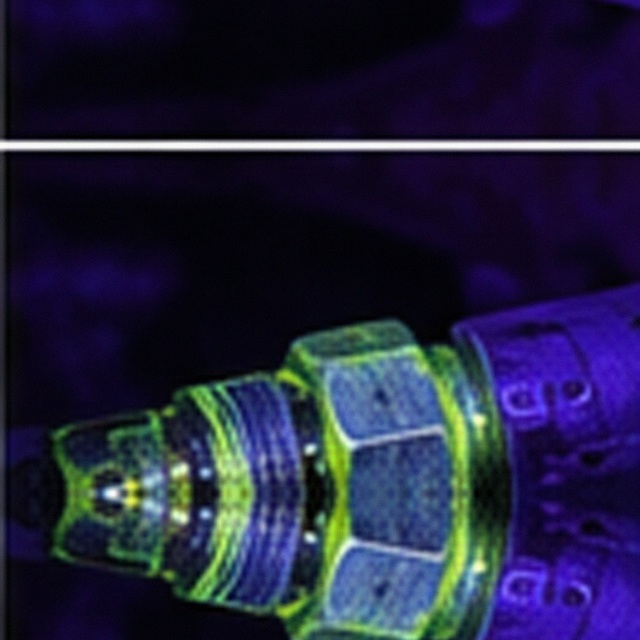hydraulic_oil_leak: (177, 321, 496, 600), (57, 447, 123, 507), (108, 406, 174, 461), (133, 525, 167, 560), (167, 474, 191, 513), (125, 491, 142, 521), (125, 465, 142, 489), (107, 518, 122, 531), (54, 427, 69, 439), (169, 453, 176, 460), (169, 526, 175, 533), (157, 490, 162, 496)
